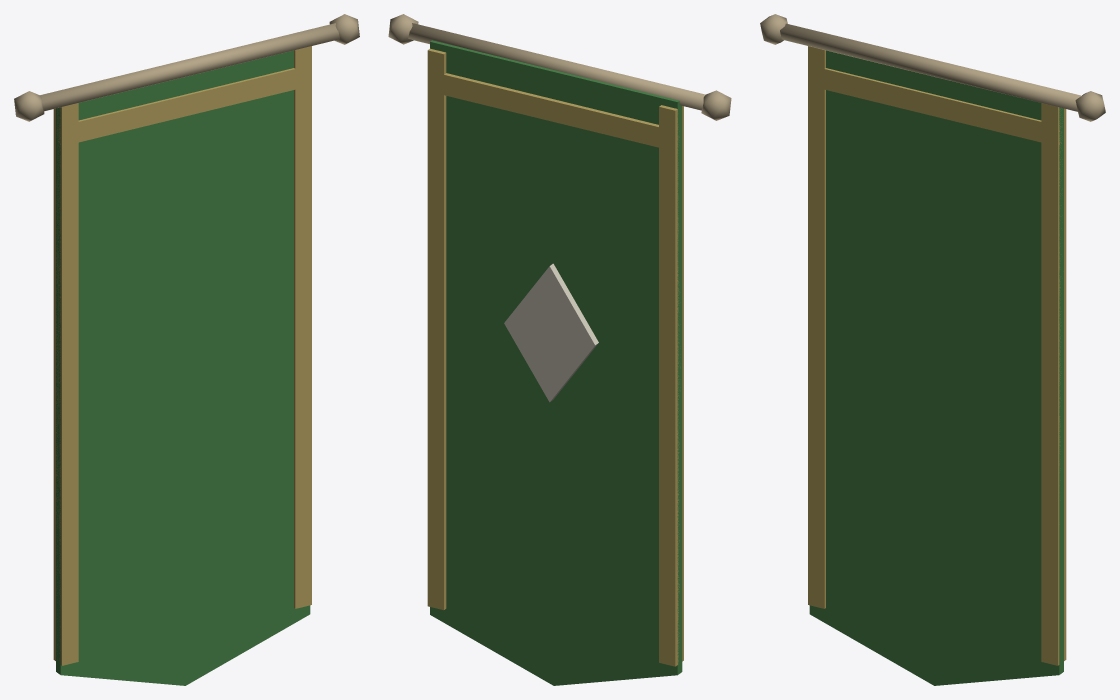
Rendered from elf_copter_banner_v0.glb.
The picture shows the model from 3 angles, left to right: view 1: azimuth 30°, elevation 25°; view 2: azimuth 150°, elevation 25°; view 3: azimuth 330°, elevation 25°; orthographic projection.
Parts seen in each view (by area): view 1: elf_copter_banner_v0; view 2: elf_copter_banner_v0; view 3: elf_copter_banner_v0.
Part boxes in pixels (x1,y1,x2,y2): elf_copter_banner_v0: [14, 14, 359, 685]; elf_copter_banner_v0: [388, 14, 731, 685]; elf_copter_banner_v0: [760, 14, 1105, 685].
Bounding box in the file's own units: 1.04 × 1.84 × 0.0933.
